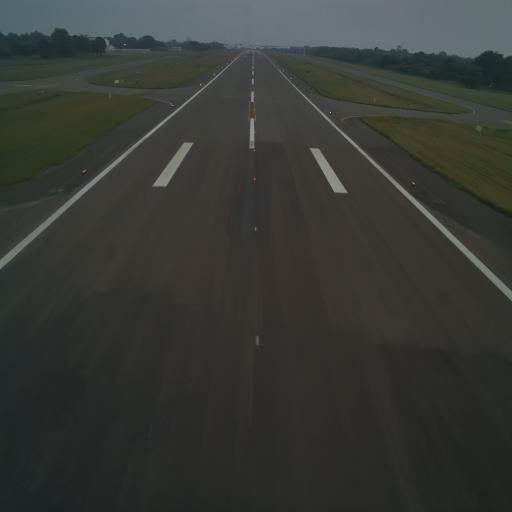on: (254, 331, 262, 349), (254, 222, 260, 235), (80, 167, 88, 176), (410, 179, 416, 188), (252, 145, 257, 155), (328, 109, 333, 117), (252, 176, 257, 183), (253, 129, 256, 135), (172, 100, 174, 108)
